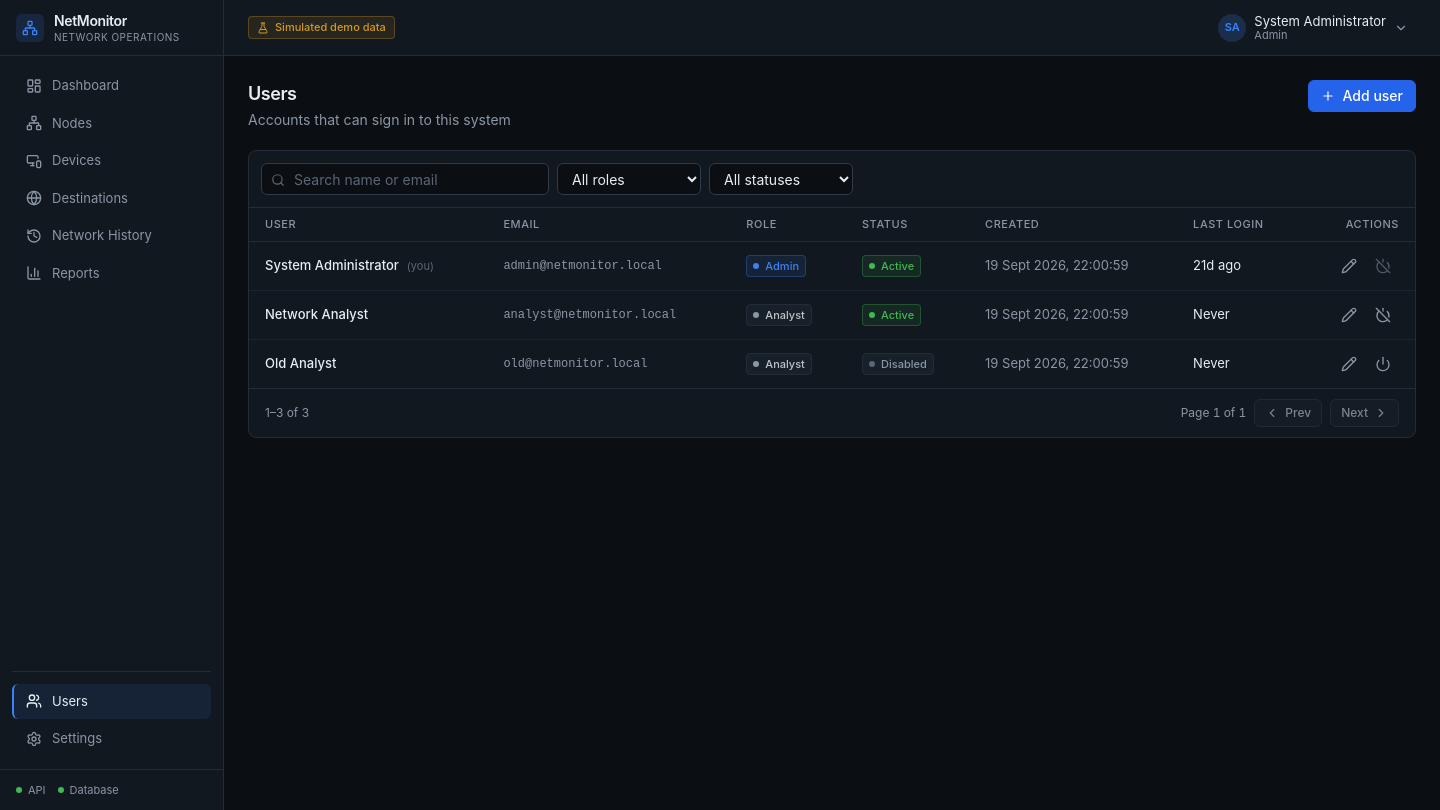
UsersPage › shows the server message when the email is already taken
Click the button "Add user" at (1362, 96), box [1308, 80, 1416, 112]
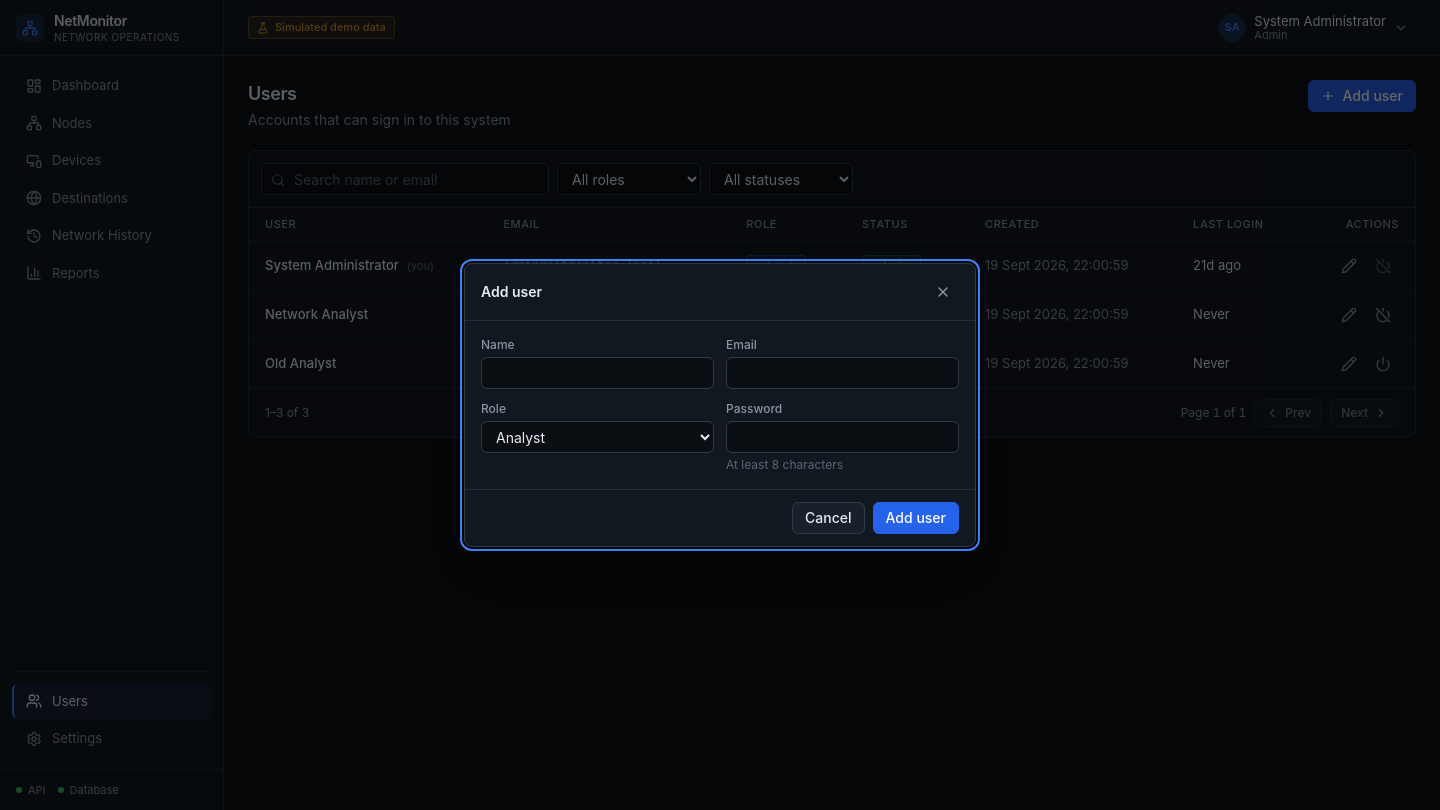
Type "Dup" into the field labelled "Name" at (598, 373), box [481, 357, 714, 389]
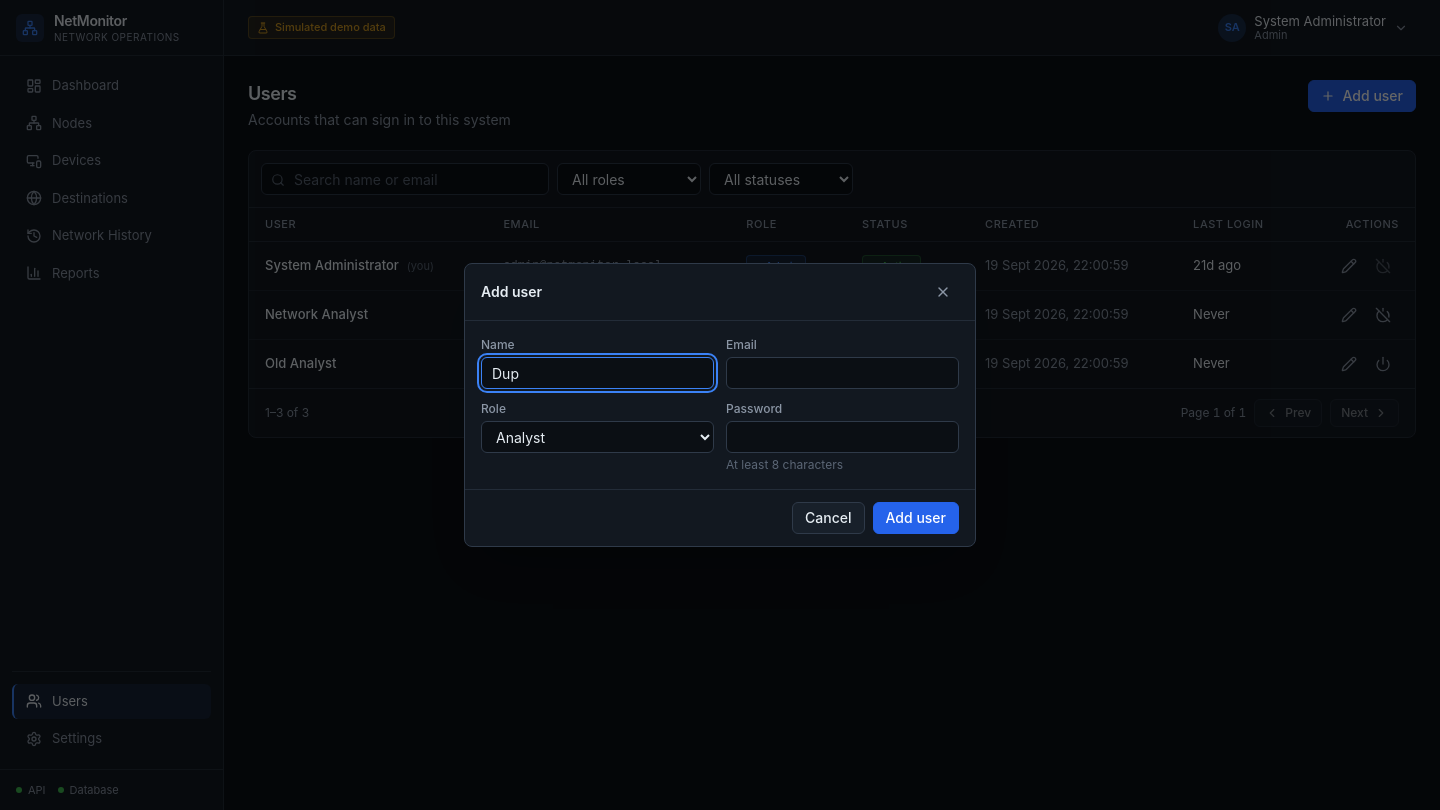
Type "admin@netmonitor.local" into the field labelled "Email" at (842, 373), box [726, 357, 959, 389]
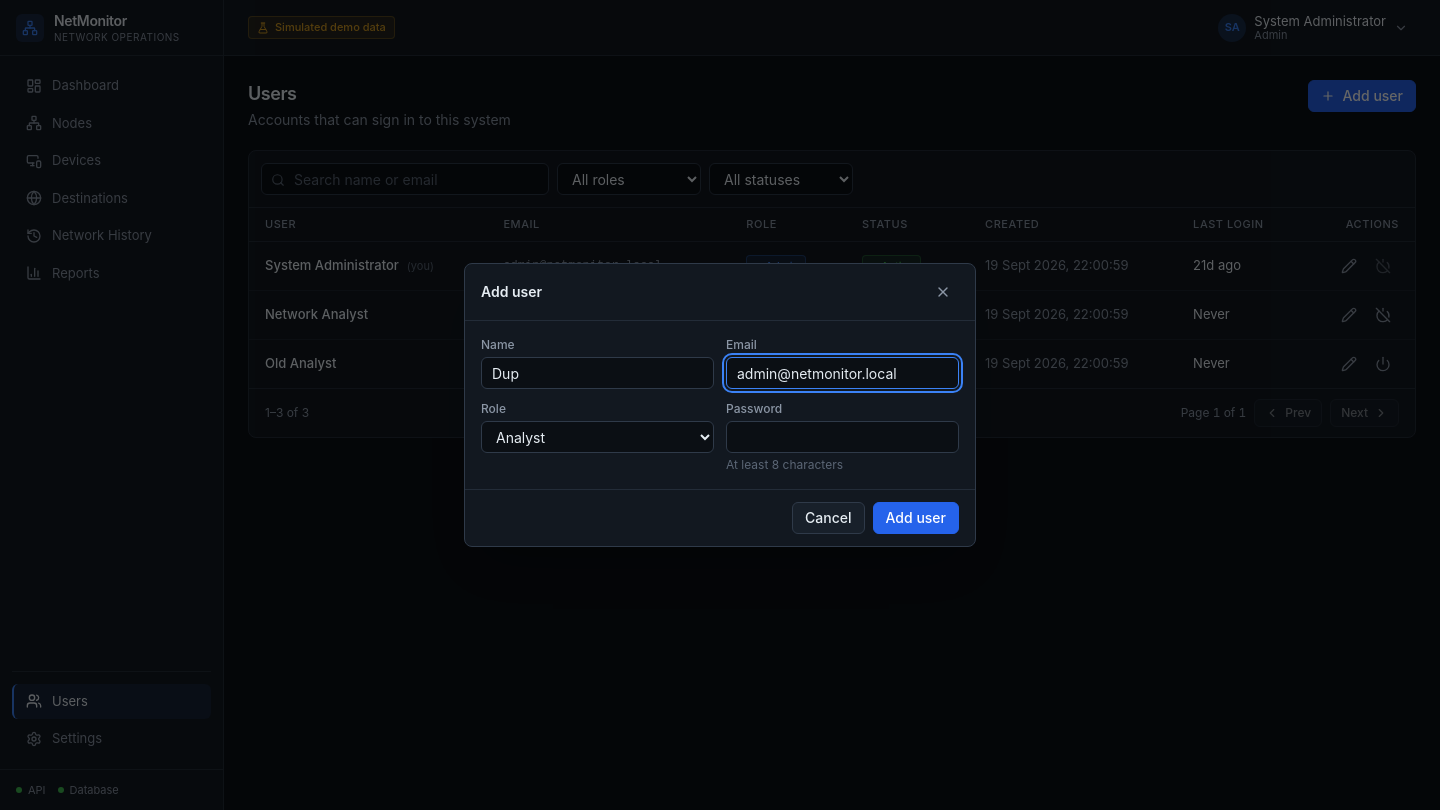
Type "a-long-enough-password" into the password field labelled "Password" at (842, 437), box [726, 421, 959, 453]
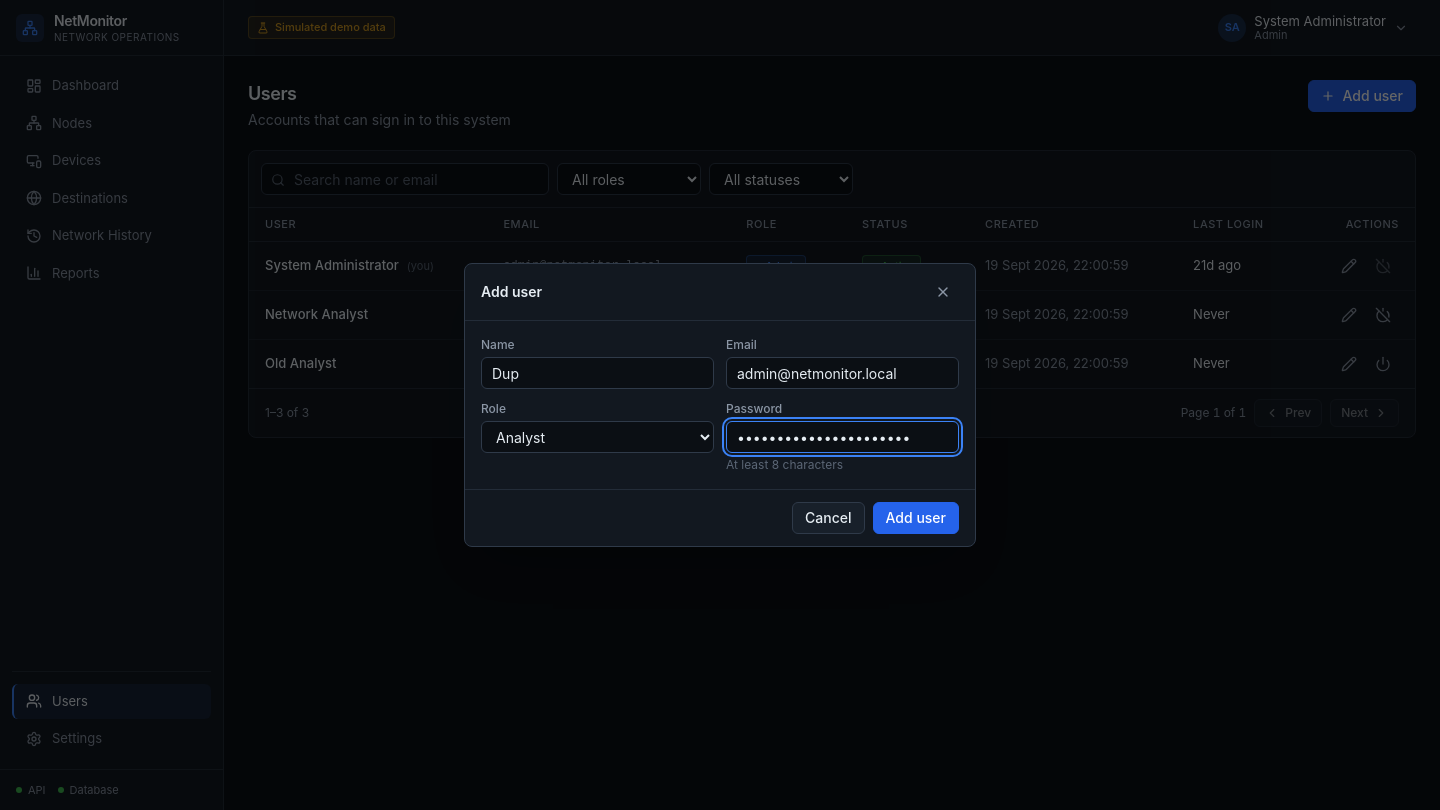
Click the button "Add user" at (916, 518), box [872, 502, 959, 534]
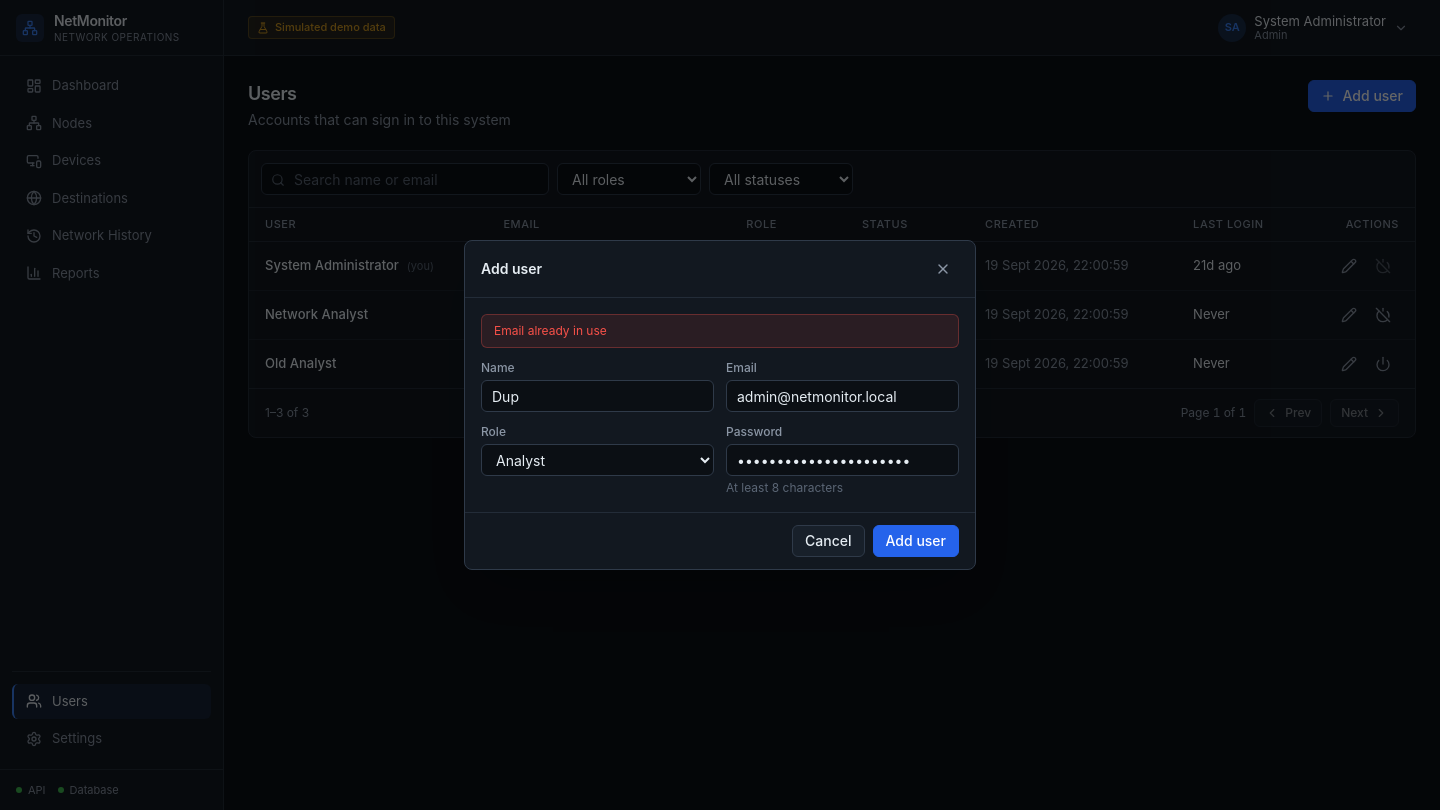
Expected: the text "Email already in use" is shown, [481, 314, 959, 348]
